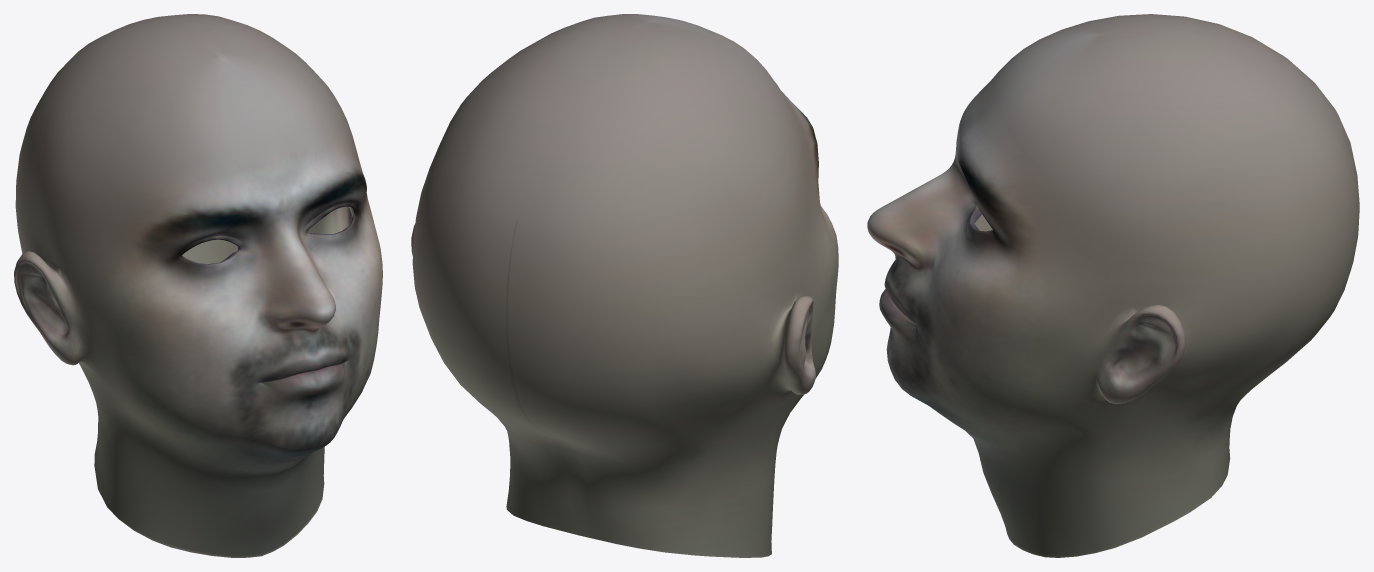
3 renders of one model, left to right at view 1: azimuth 30°, elevation 25°; view 2: azimuth 150°, elevation 25°; view 3: azimuth 270°, elevation 25°, orthographic. The views are drawn at different scales.
Visible parts, largest first — view 1: FaceGen; view 2: FaceGen; view 3: FaceGen.
Boxes of the visible parts, x1,y1,x2,y2 form: FaceGen: (14,14,382,557); FaceGen: (411,14,838,557); FaceGen: (867,14,1359,557).
Size of the model in its own units: 208 by 280 by 247.
Materials: 1 (1 with a texture image).
